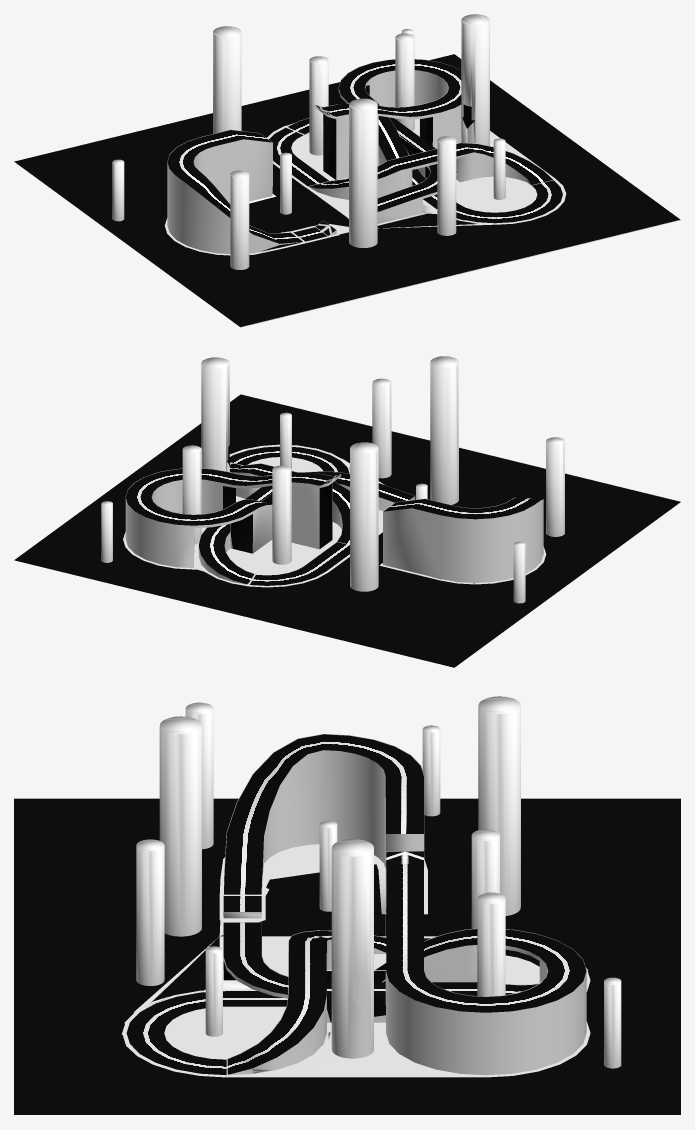
The picture shows the model from 3 angles, top to bottom: view 1: azimuth 30°, elevation 25°; view 2: azimuth 150°, elevation 25°; view 3: azimuth 270°, elevation 25°; orthographic projection. The views are drawn at different scales.
Visible parts, largest first — view 1: Untitled.006, Untitled.007, Untitled.003, Untitled.000, Untitled.008; view 2: Untitled.006, Untitled.003, Untitled.007, Untitled.000, Untitled.008; view 3: Untitled.006, Untitled.003, Untitled.007, Untitled.000, Untitled.008.
Part boxes in pixels (x1=…): Untitled.006: x1=14, y1=54, x2=680, y2=326; Untitled.007: x1=112, y1=14, x2=560, y2=269; Untitled.003: x1=165, y1=59, x2=680, y2=327; Untitled.000: x1=167, y1=59, x2=562, y2=243; Untitled.008: x1=168, y1=81, x2=474, y2=251; Untitled.006: x1=14, y1=394, x2=680, y2=667; Untitled.003: x1=123, y1=394, x2=680, y2=587; Untitled.007: x1=101, y1=356, x2=564, y2=603; Untitled.000: x1=126, y1=446, x2=542, y2=585; Untitled.008: x1=126, y1=445, x2=474, y2=583; Untitled.006: x1=14, y1=798, x2=680, y2=1114; Untitled.003: x1=121, y1=734, x2=590, y2=1077; Untitled.007: x1=123, y1=696, x2=621, y2=1077; Untitled.000: x1=126, y1=734, x2=586, y2=1075; Untitled.008: x1=223, y1=770, x2=586, y2=1030.
Bounding box in the file's own units: 69299 × 20709 × 61732.
Materials: 5 (5 with a texture image).
